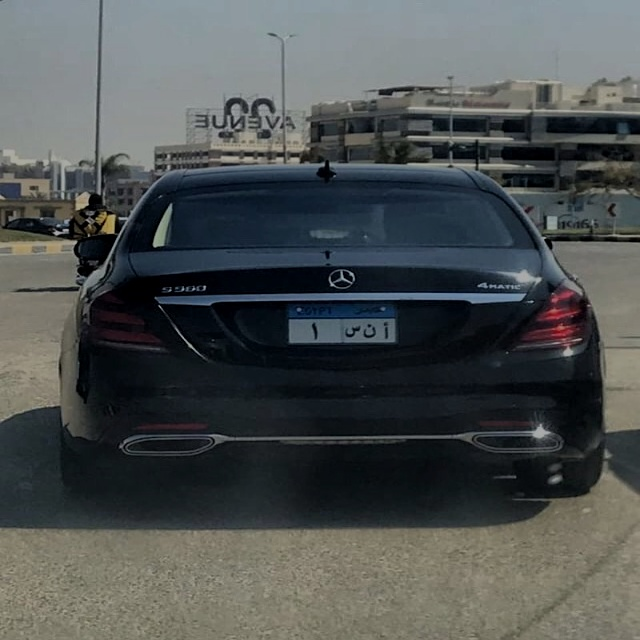License Plate: (283, 302, 402, 347)
